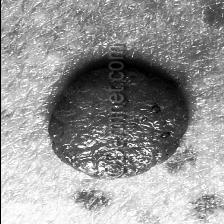Potentially Malignant Skin Tumors: (44, 68, 182, 180)
